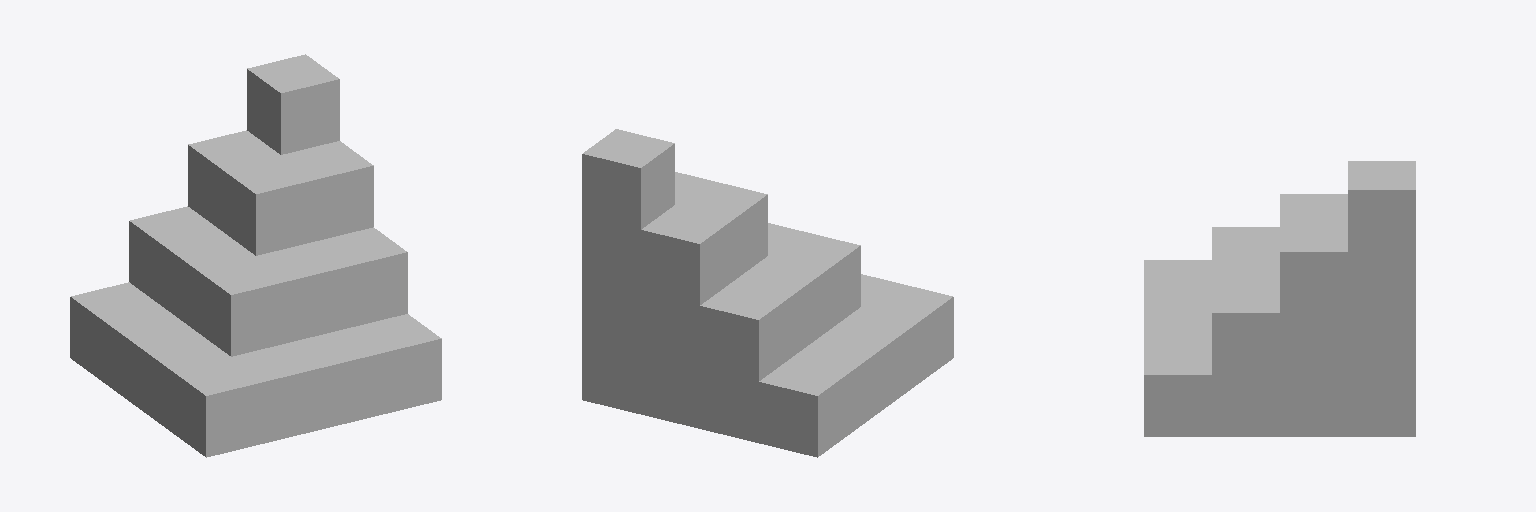
Rendered from StairsCorner.obj.
3 renders of one model, left to right at view 1: azimuth 30°, elevation 25°; view 2: azimuth 150°, elevation 25°; view 3: azimuth 270°, elevation 25°, orthographic.
Visible parts, largest first — view 1: Cube.001_Cube.000; view 2: Cube.001_Cube.000; view 3: Cube.001_Cube.000.
Part boxes in pixels (x1,y1,x2,y2): Cube.001_Cube.000: (70, 54, 441, 457); Cube.001_Cube.000: (582, 129, 953, 457); Cube.001_Cube.000: (1144, 161, 1415, 436).
Size of the model in its own units: 1 by 1 by 1.